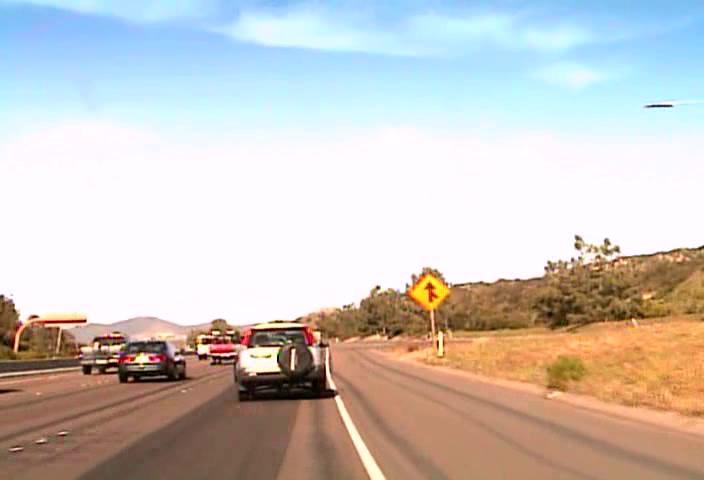merge: (407, 270, 451, 312)
